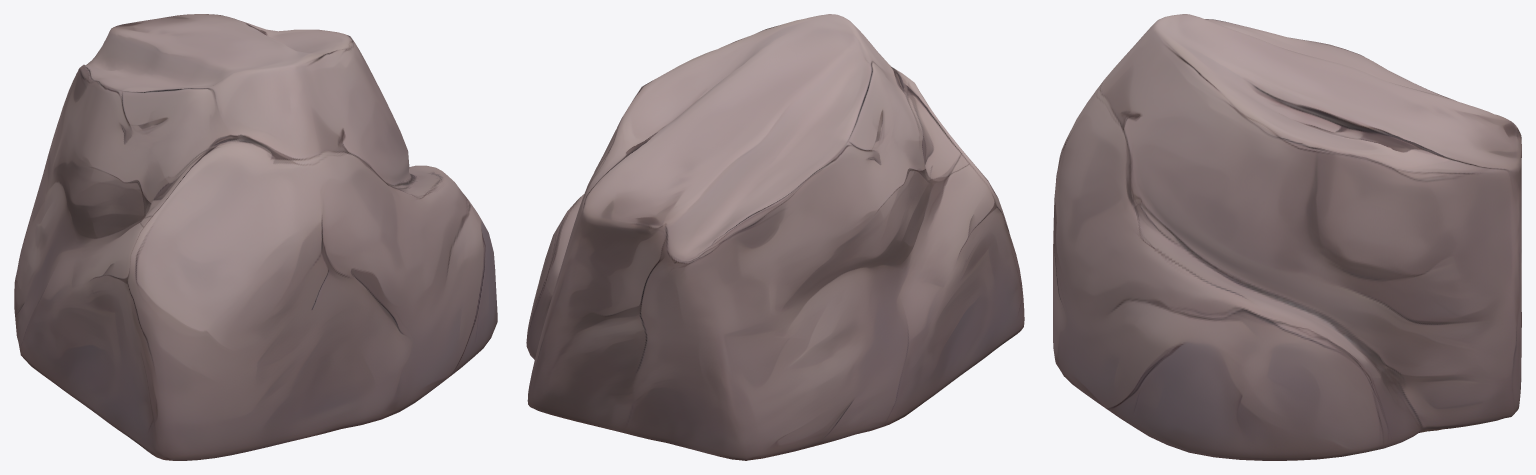
File: base_basic_shaded.glb
3 renders of one model, left to right at view 1: azimuth 30°, elevation 25°; view 2: azimuth 150°, elevation 25°; view 3: azimuth 270°, elevation 25°, orthographic. The views are drawn at different scales.
Parts seen in each view (by area): view 1: model; view 2: model; view 3: model.
Boxes of the visible parts, x1,y1,x2,y2 form: model: (14,14,497,460); model: (526,14,1024,460); model: (1053,14,1521,460).
Bounding box in the file's own units: 1.89 × 1.43 × 1.89.
Materials: 1 (1 with a texture image).
